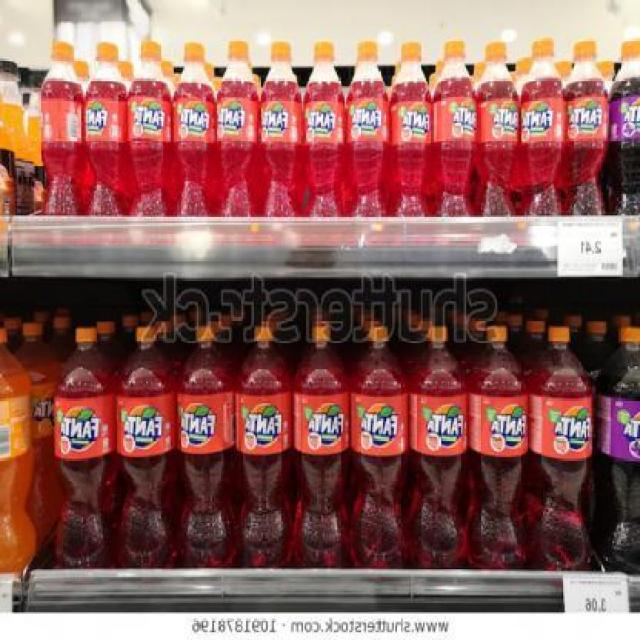Drinks: (530, 326, 592, 571), (410, 325, 470, 569), (468, 325, 528, 569), (290, 323, 350, 566), (54, 327, 114, 570), (114, 323, 174, 566), (232, 323, 292, 566), (350, 326, 410, 568), (175, 324, 234, 567), (596, 325, 638, 577), (125, 40, 173, 217), (519, 38, 564, 215), (432, 40, 477, 215), (565, 39, 609, 216), (39, 42, 84, 215), (389, 42, 433, 218), (257, 41, 301, 217), (302, 41, 346, 216), (345, 41, 389, 214), (172, 42, 214, 218), (476, 41, 518, 216), (215, 40, 256, 217), (84, 42, 125, 216), (609, 38, 640, 215)
